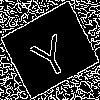Y: (25, 25, 73, 81)
